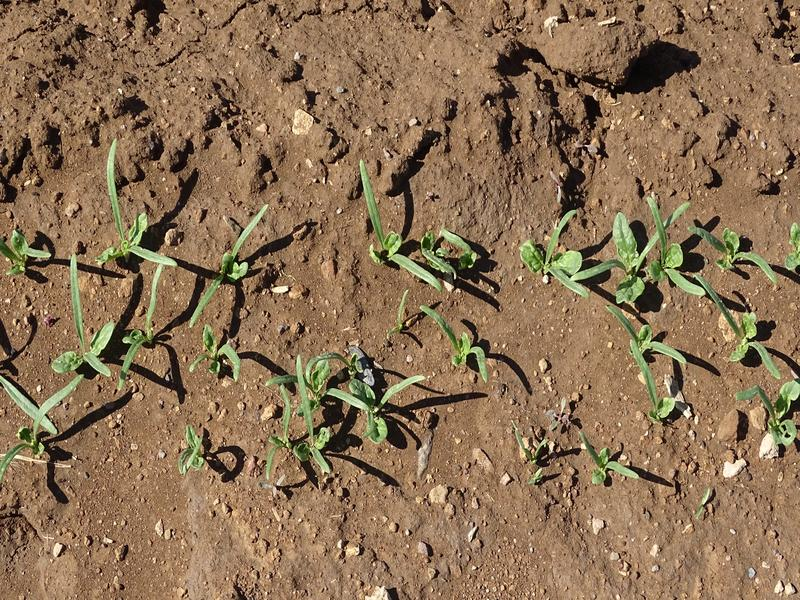Espinaca: (1, 140, 267, 471), (536, 206, 800, 434), (276, 338, 419, 497), (358, 167, 483, 285), (427, 303, 495, 388), (574, 429, 636, 488)
